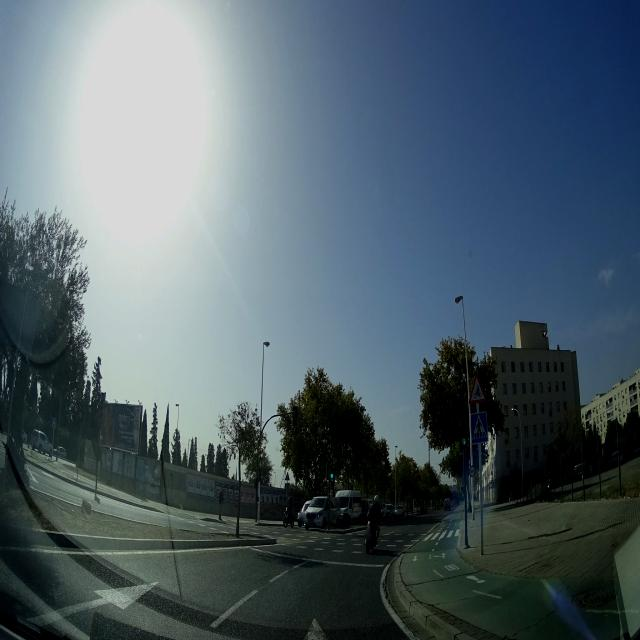car: (304, 494, 339, 532), (297, 498, 316, 529), (31, 430, 51, 454), (298, 500, 310, 528), (382, 502, 394, 519), (394, 504, 404, 518)
